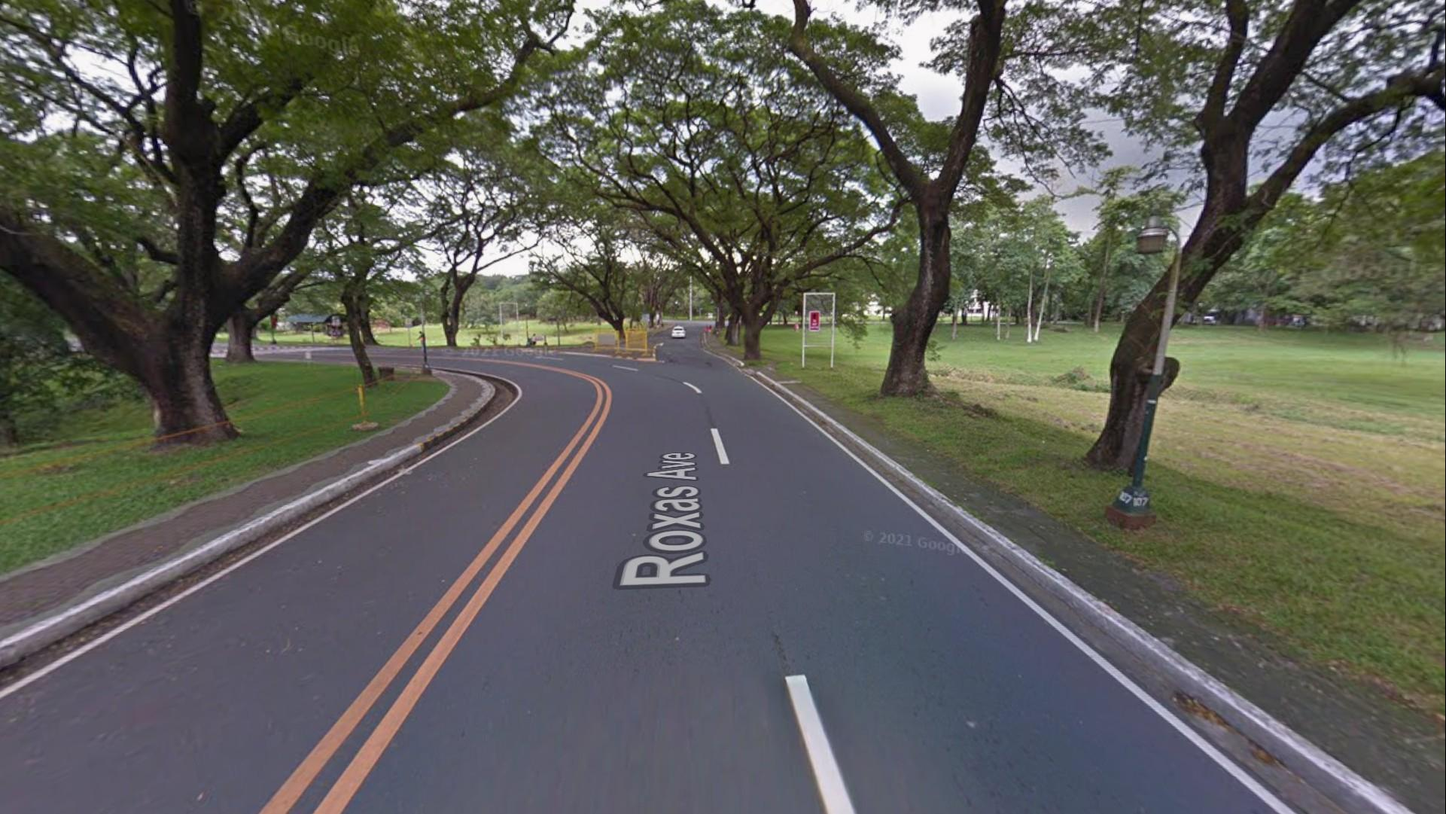pedestrian: (416, 330, 426, 352), (793, 319, 801, 334), (531, 333, 537, 348), (704, 325, 709, 338), (709, 324, 713, 337), (661, 321, 665, 329)
